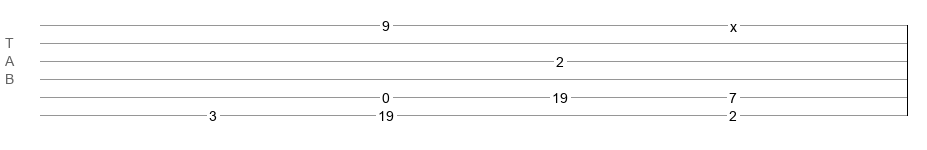0: (382, 90, 390, 100)
19: (378, 108, 394, 118), (552, 90, 568, 100)
2: (556, 54, 564, 64), (729, 108, 737, 118)
3: (209, 108, 217, 118)
7: (729, 90, 737, 100)
9: (382, 18, 390, 28)
x: (730, 19, 737, 27)
